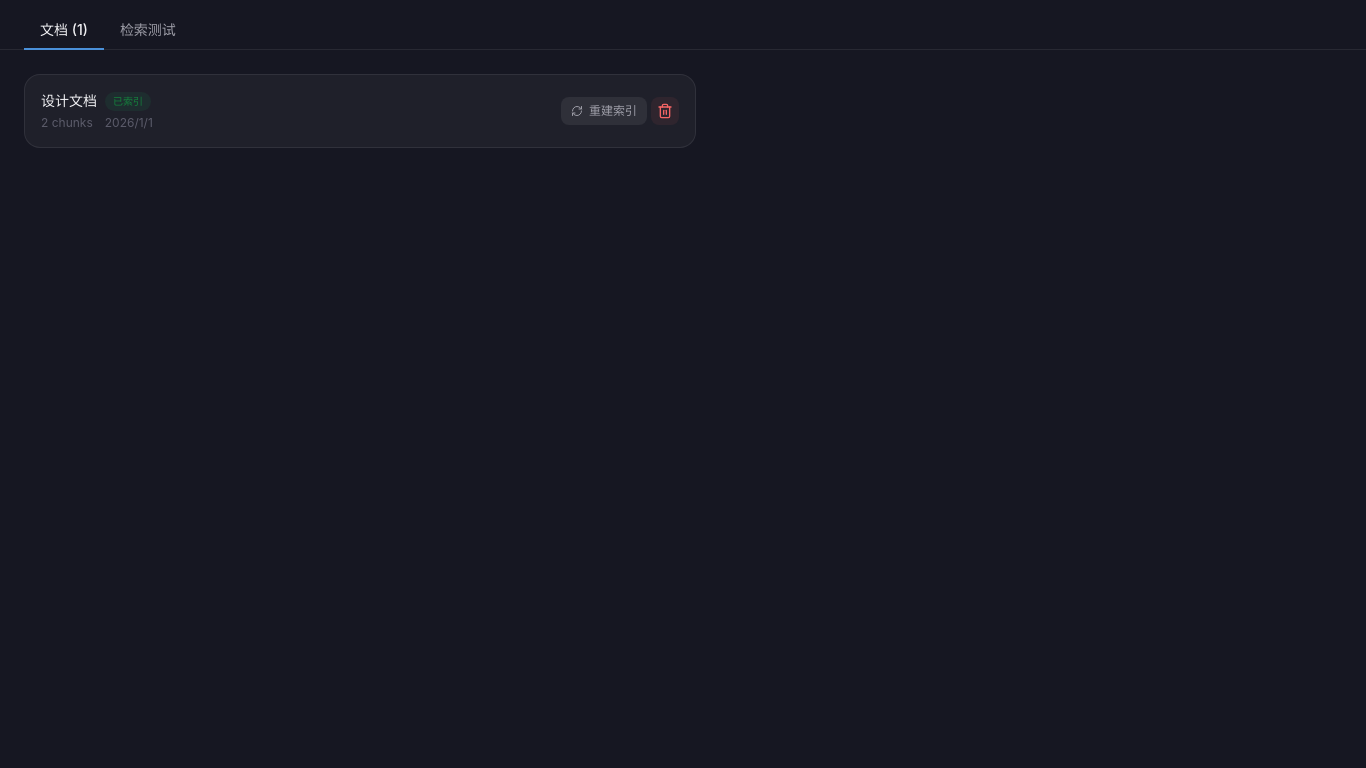
Test: KnowledgeView › opens document detail drawer and renders document content
This screenshot has width=1366, height=768.
Click the button "设计文档 已索引 2 chunks 2026/1/1": (69, 100) [41,89,549,133]
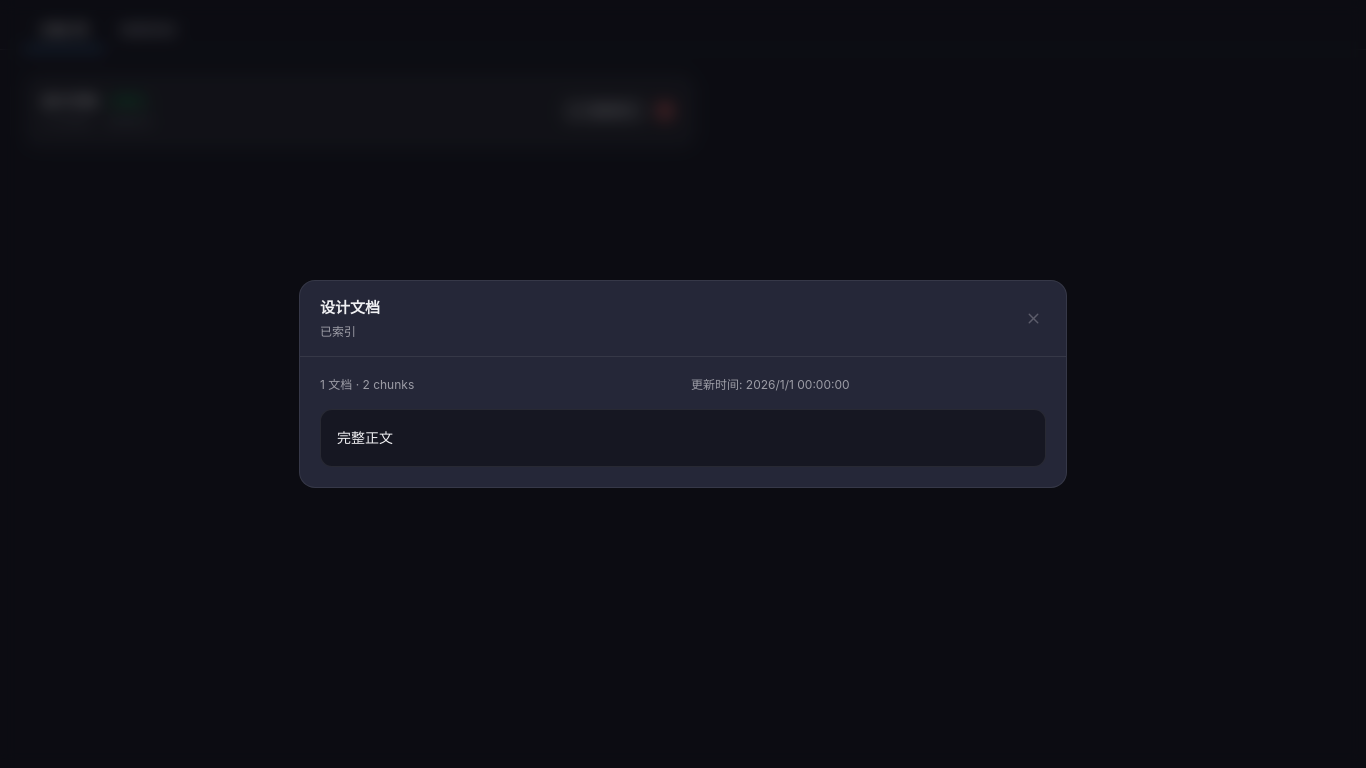
expect the text "完整正文" is shown: met, box [320,409,1046,467]
